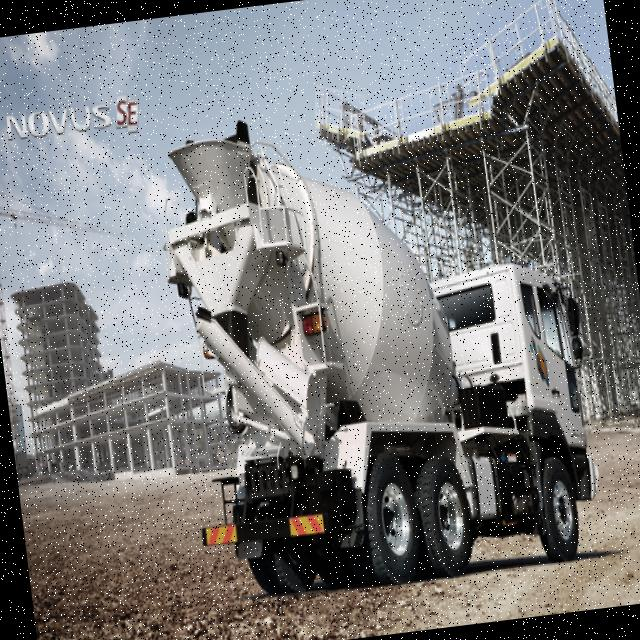Mixer Truck: (150, 82, 608, 603)
